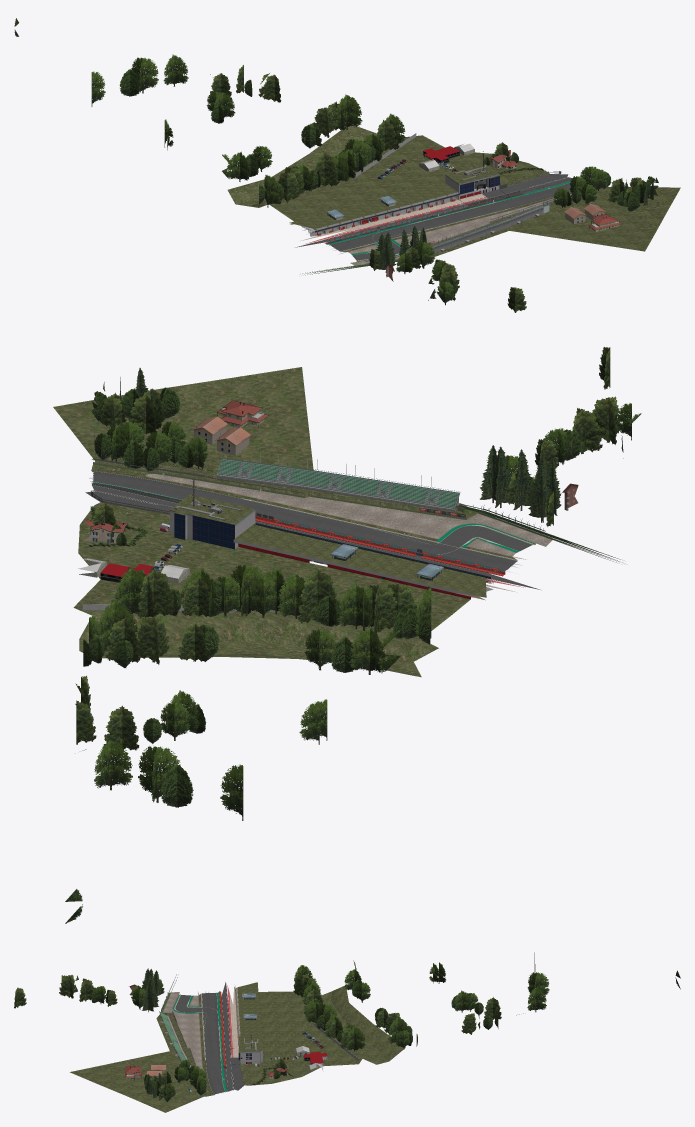
3 renders of one model, top to bottom at view 1: azimuth 30°, elevation 25°; view 2: azimuth 150°, elevation 25°; view 3: azimuth 270°, elevation 25°, orthographic. The views are drawn at different scales.
Visible parts, largest first — view 1: tile_t12; view 2: tile_t12; view 3: tile_t12.
Boxes of the visible parts, x1,y1,x2,y2 form: tile_t12: (14,18,680,312); tile_t12: (53,347,641,923); tile_t12: (14,952,680,1112).
Size of the model in its own units: 333 by 41.57 by 651.
47 materials, 47 textured.
